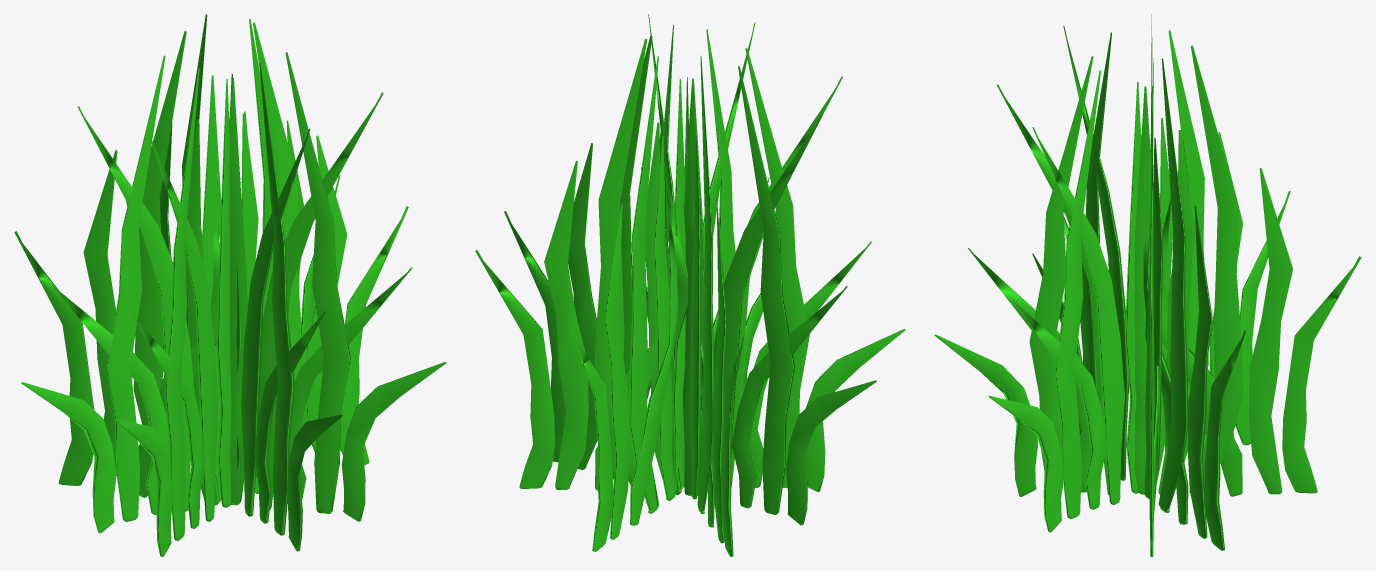
File: Grass_2.fbx
3 views of the same model, side by side, from view 1: azimuth 30°, elevation 25°; view 2: azimuth 150°, elevation 25°; view 3: azimuth 270°, elevation 25° (orthographic). The views are drawn at different scales.
Parts seen in each view (by area): view 1: GrassNEW; view 2: GrassNEW; view 3: GrassNEW.
Boxes of the visible parts, x1=… form: GrassNEW: x1=14, y1=14, x2=446, y2=556; GrassNEW: x1=475, y1=14, x2=905, y2=556; GrassNEW: x1=934, y1=14, x2=1361, y2=556.
Bounding box in the file's own units: 128 × 128 × 148.
